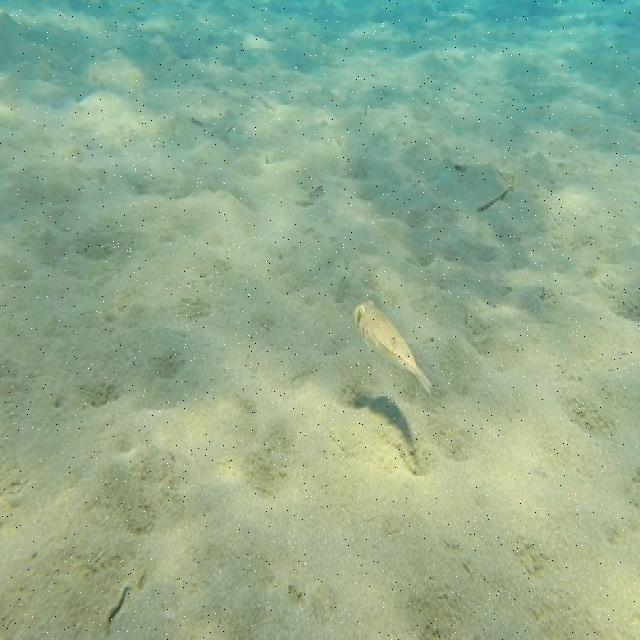Balik: (354, 301, 431, 394)
